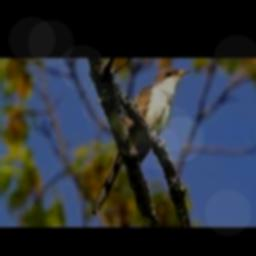Cuckoo: (93, 67, 192, 215)
